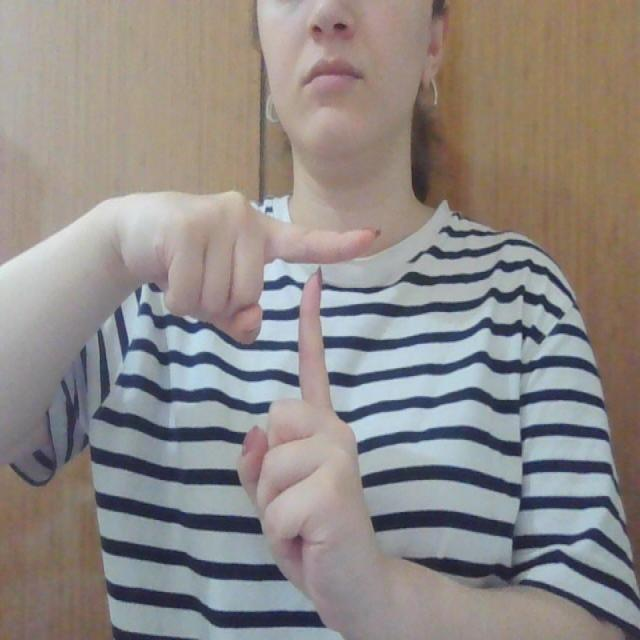Tesekkurler: (255, 186, 386, 434)
